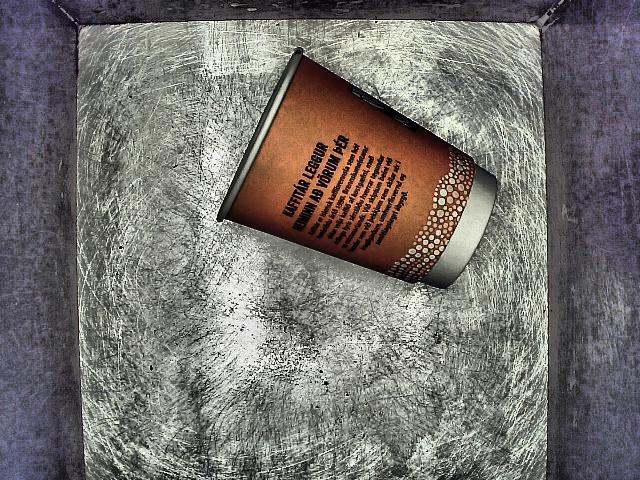Paper: (205, 39, 514, 293)
